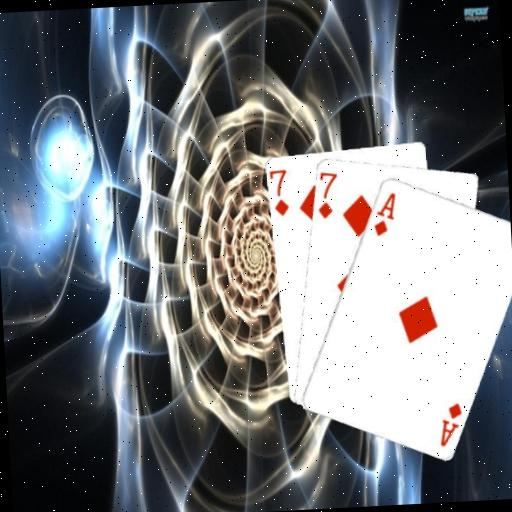7D: (313, 169, 341, 221), (268, 165, 291, 218)
AD: (369, 189, 400, 238), (435, 399, 466, 448)
